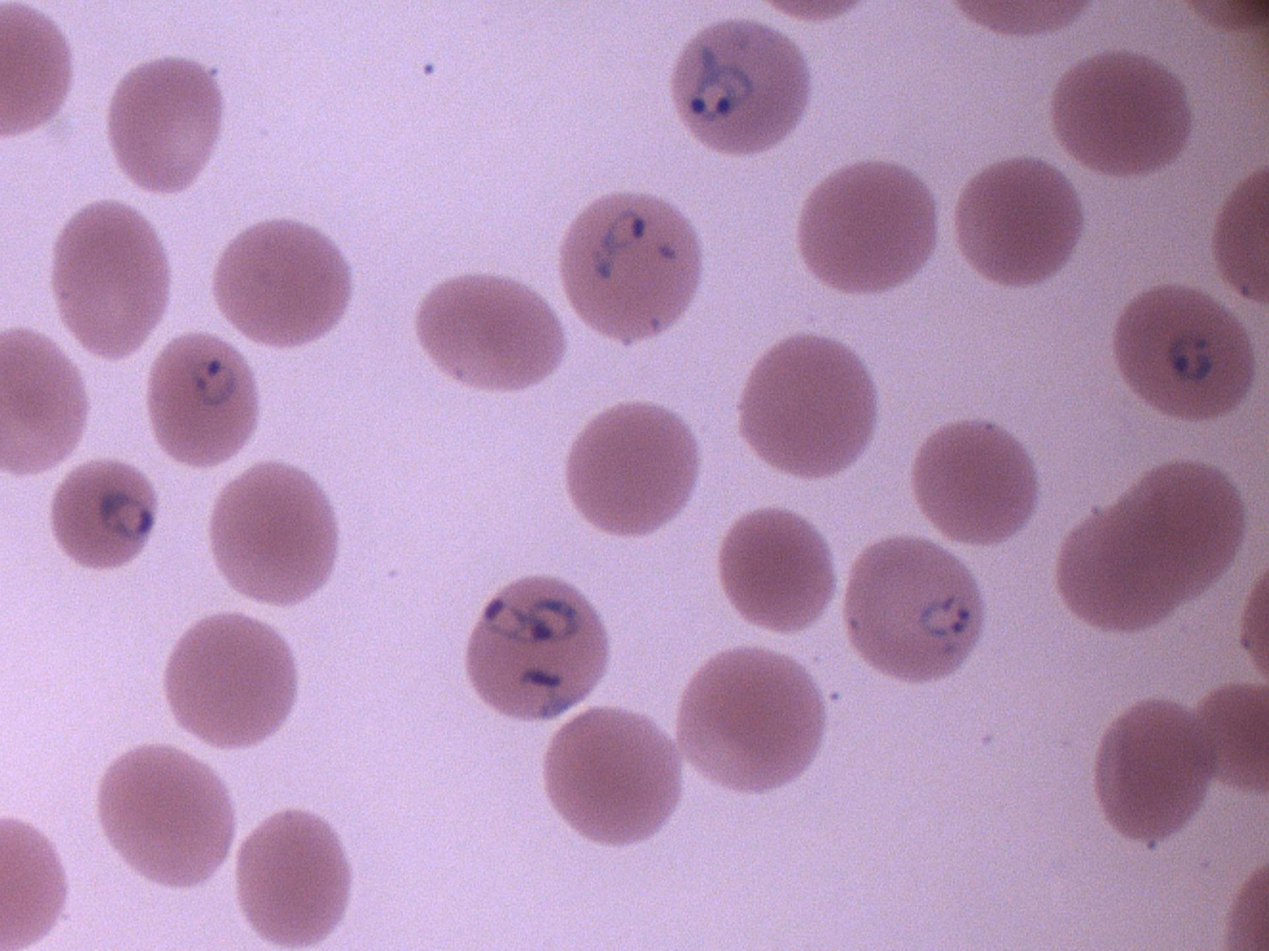Infected: (846, 532, 987, 678), (563, 192, 700, 342), (1110, 285, 1258, 423), (468, 575, 609, 715), (671, 19, 812, 155), (147, 329, 261, 461), (51, 451, 161, 573)
Uninfected: (1055, 459, 1247, 633), (679, 646, 825, 788), (739, 332, 874, 481), (99, 744, 236, 889), (544, 704, 685, 844), (55, 202, 177, 360), (210, 465, 339, 610), (800, 157, 939, 290), (169, 610, 300, 751), (213, 222, 354, 349), (570, 402, 700, 537), (415, 275, 566, 390), (1056, 52, 1194, 176), (1091, 699, 1215, 836), (955, 157, 1083, 287), (240, 809, 356, 949), (917, 417, 1037, 549), (111, 58, 223, 197), (724, 508, 837, 632), (0, 332, 91, 479)
